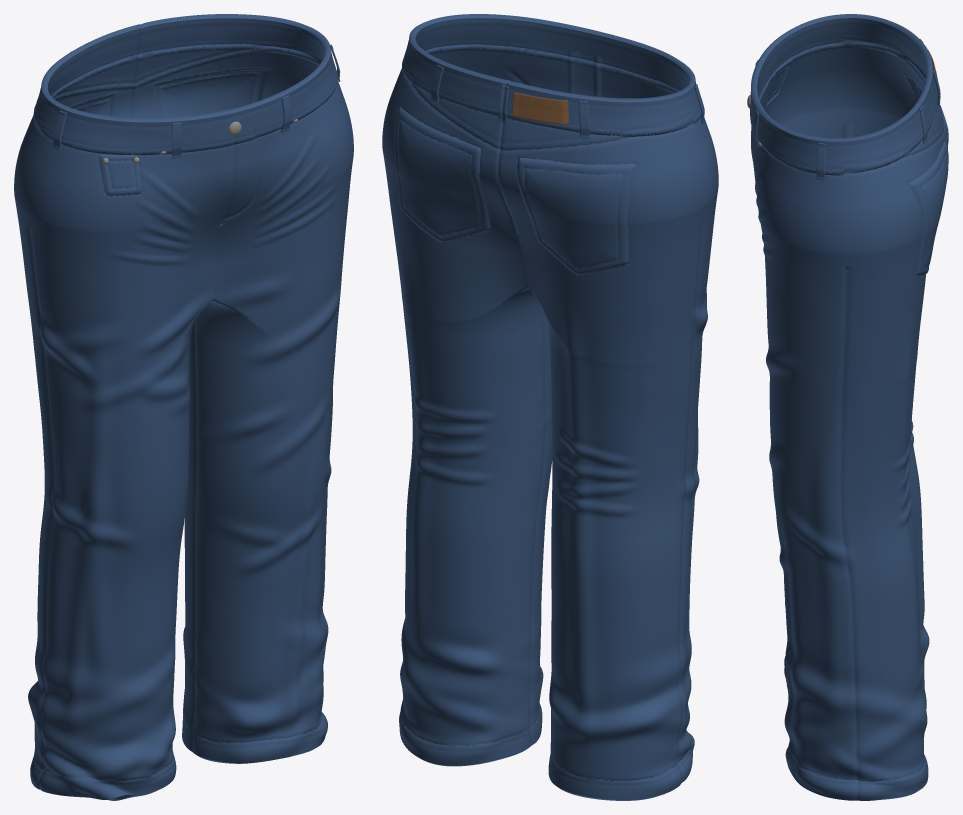
File: 20_vaquero_clasico.glb
The picture shows the model from 3 angles, left to right: view 1: azimuth 30°, elevation 25°; view 2: azimuth 150°, elevation 25°; view 3: azimuth 270°, elevation 25°; orthographic projection. The views are drawn at different scales.
Parts seen in each view (by area): view 1: body; view 2: body, trim; view 3: body.
Part boxes in pixels (bbox=[...]): body: bbox=[14, 14, 353, 800]; body: bbox=[382, 14, 718, 800]; trim: bbox=[512, 92, 568, 124]; body: bbox=[750, 14, 948, 800].
Bounding box in the file's own units: 0.4474 × 0.9649 × 0.2597.
